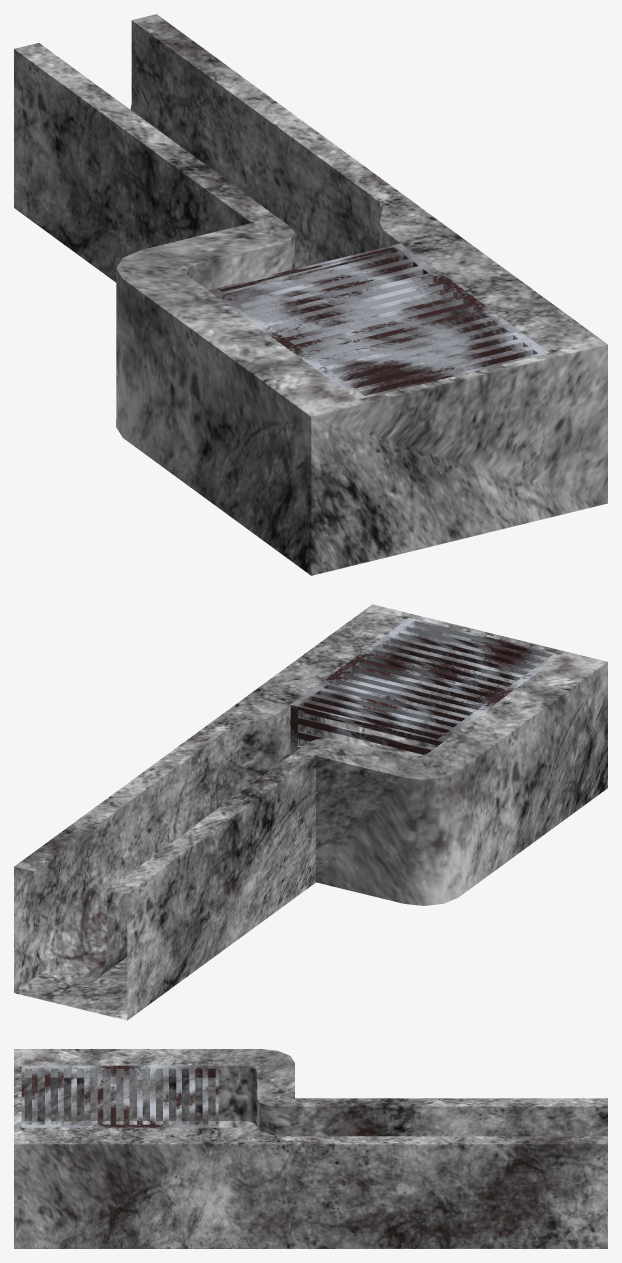
File: Drain_stairsRight.fbx
3 views of the same model, one above another, from view 1: azimuth 30°, elevation 25°; view 2: azimuth 150°, elevation 25°; view 3: azimuth 270°, elevation 25° (orthographic). The views are drawn at different scales.
Parts seen in each view (by area): view 1: drain_stairs, drain_plane; view 2: drain_stairs, drain_plane, drain_plane1; view 3: drain_stairs, drain_plane.
Part boxes in pixels (<box>): drain_stairs: <box>14,14,607,575</box>; drain_plane: <box>208,243,549,399</box>; drain_stairs: <box>14,604,607,1020</box>; drain_plane: <box>290,618,561,745</box>; drain_plane1: <box>290,705,442,754</box>; drain_stairs: <box>14,1049,607,1248</box>; drain_plane: <box>21,1065,218,1127</box>.
Bounding box in the file's own units: 99.95 × 52.38 × 263.
1 material, 1 textured.
